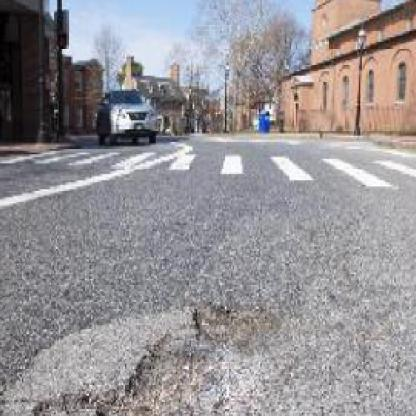pothole: (91, 339, 201, 416), (189, 298, 282, 351)
